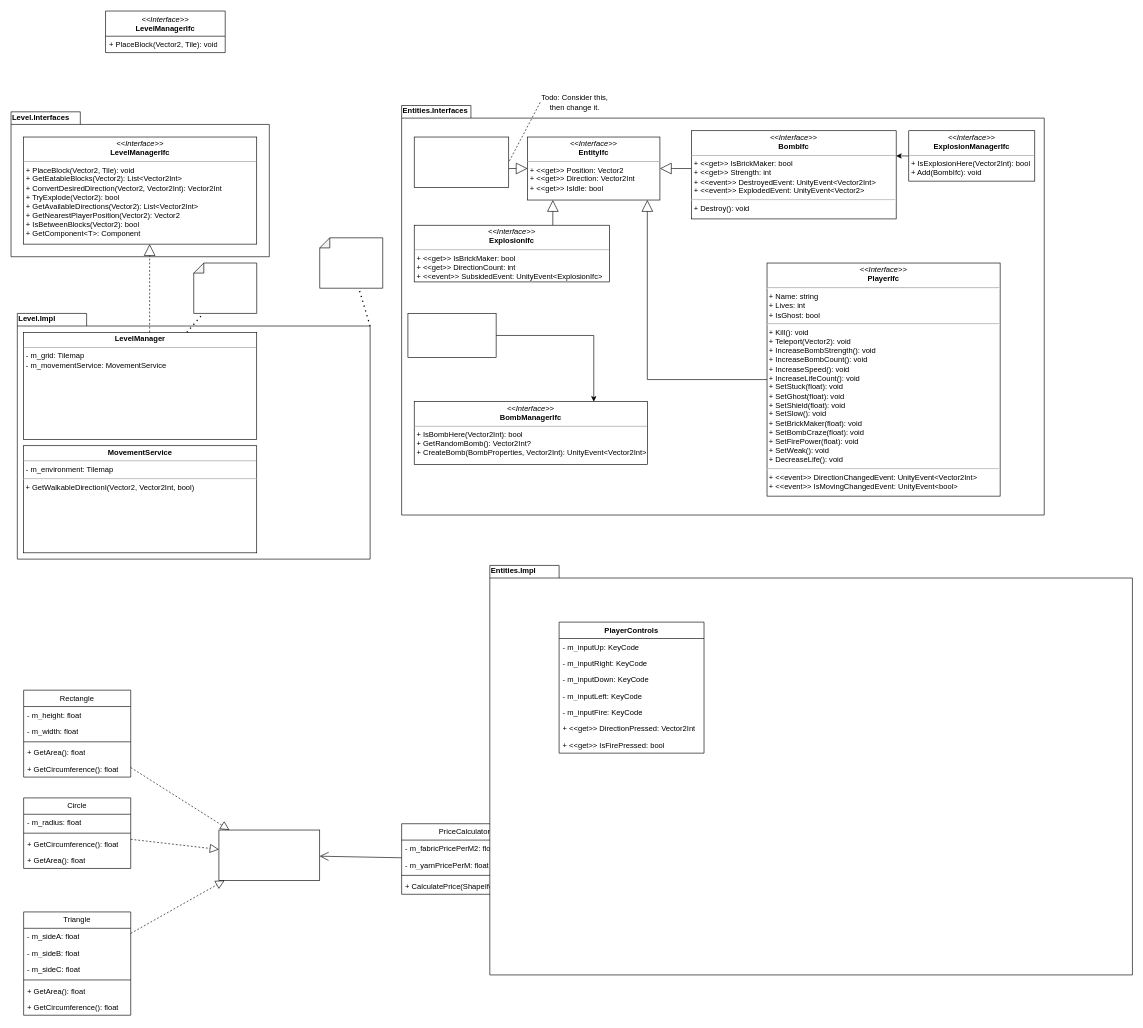
Some shapes in this 1143 by 1028 pixel diagram are drawn without their labels. Each missing label, with the centre of its shape:
<<Interface>> CollectableIfc + Collect(PlayerIfc): void + Destroy(): void: the point at 461,161
<<Interface>> ShapeIfc + GetArea(): float + GetCircumference(): float: the point at 269,854
BombProperties + Range: int + IsBrickMaker: bool: the point at 451,335
Is attached to the Grid: the point at 225,287
Not current but desired implementation!: the point at 351,262
